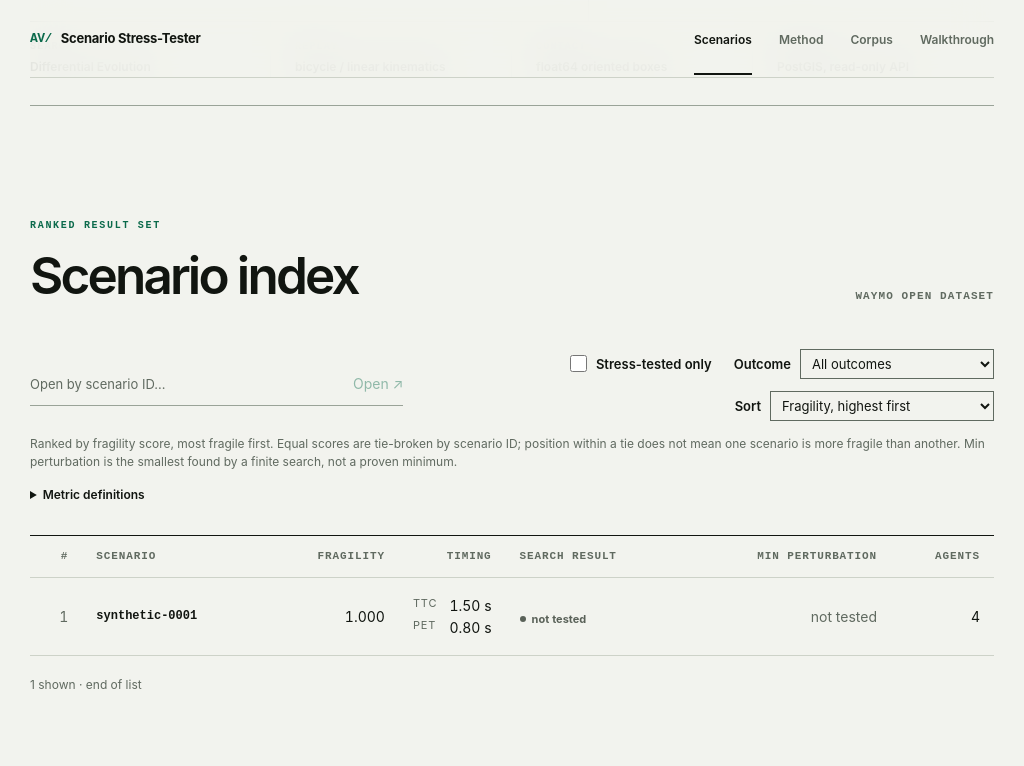
Test: open by scenario ID › encodes an ID containing a space
(page scrolled)
Type "two words" into the search field labelled "Open by scenario ID" at [182, 384], box [30,363,335,405]
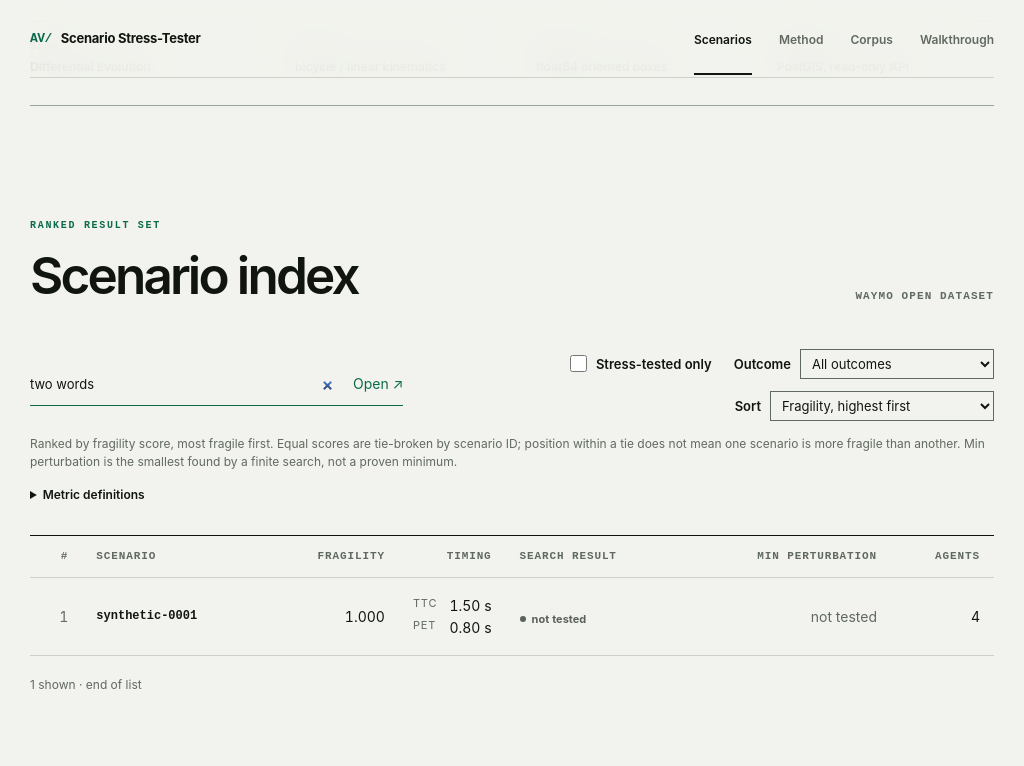
Click the button "Open ↗" at [369, 384], box [335,363,403,405]
(page scrolled)
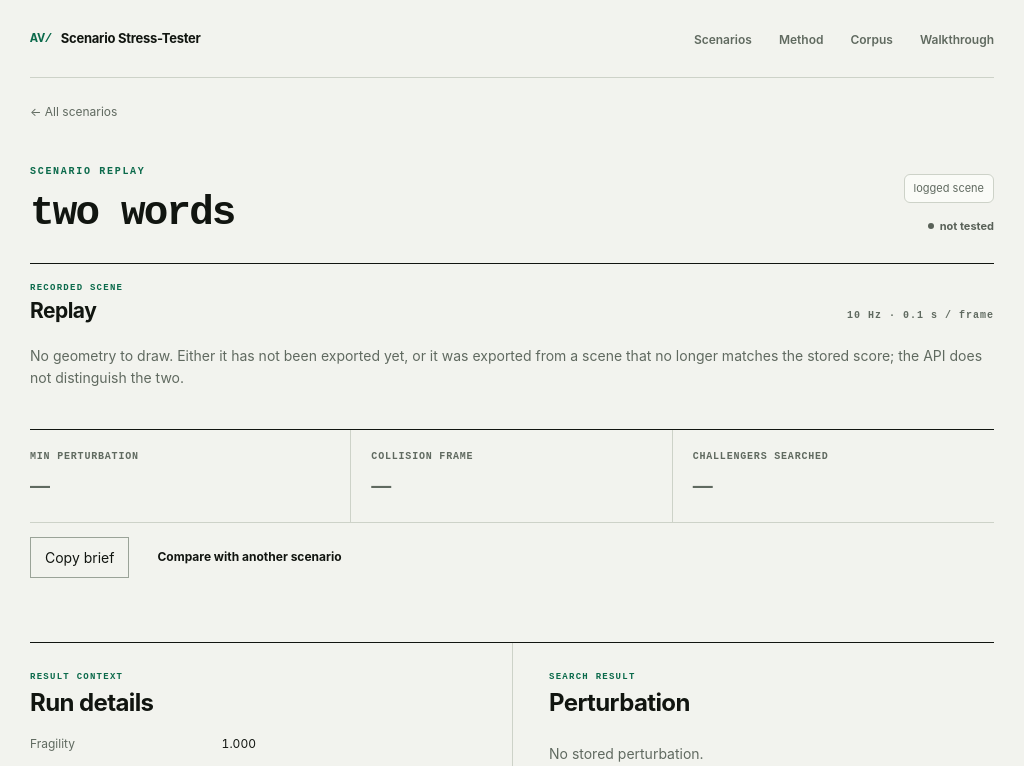
Expected: the heading "two words" is shown, [30,192,235,235]
